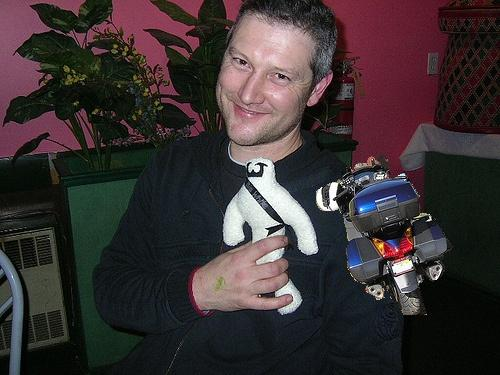tampered: (317, 156, 453, 315)
